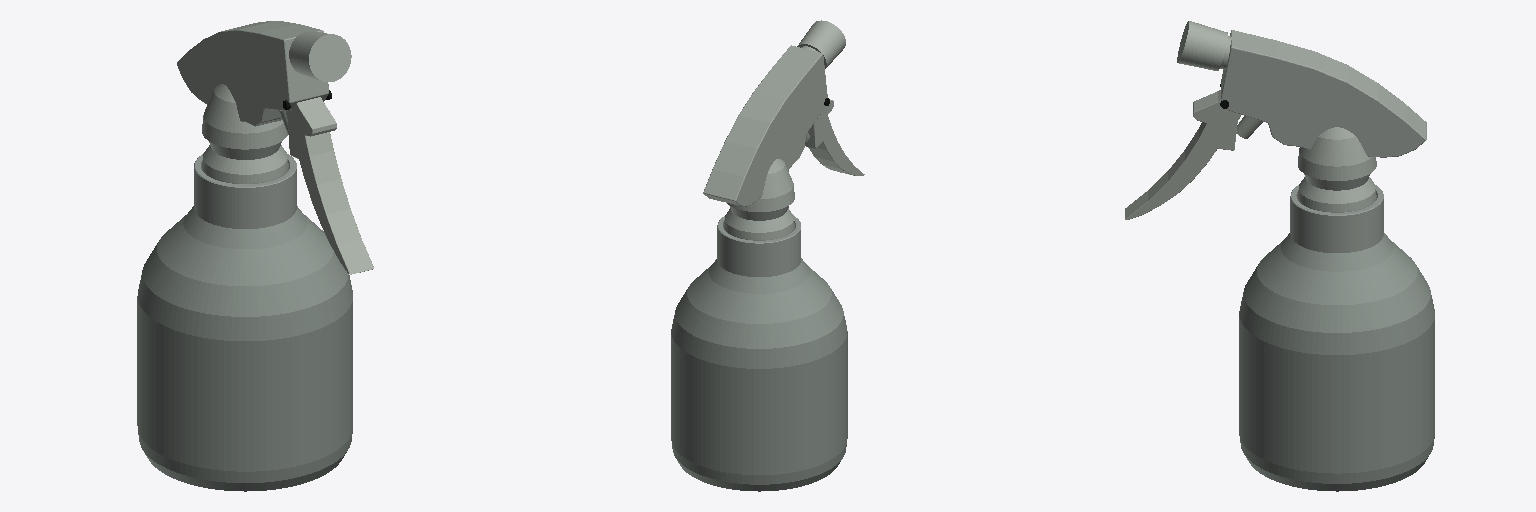
The robot description file, URDF, robot "object_101463":
<?xml version='1.0' encoding='utf-8'?>
<robot name="object_101463">
  <link name="fixed_root">
    <visual name="bottle">
      <origin xyz="0 0 0" rpy="0 0 0" />
      <geometry>
        <mesh filename="meshes/mesh_000.obj" scale="1 1 1" />
      </geometry>
      <material name="mesh_000_material">
        <color rgba="0.5699999928474426 0.6050000190734863 0.5799999833106995 1.0" />
      </material>
    </visual>
  </link>
  <link name="link_closure_turn">
    <visual name="closure">
      <origin xyz="0 0 0" rpy="0 0 0" />
      <geometry>
        <mesh filename="meshes/mesh_001.obj" scale="1 1 1" />
      </geometry>
      <material name="mesh_001_material">
        <color rgba="0.6100000143051147 0.6399999856948853 0.6150000095367432 1.0" />
      </material>
    </visual>
  </link>
  <link name="link_head_swivel">
    <visual name="housing_pivot_left">
      <origin xyz="0 0 0" rpy="0 0 0" />
      <geometry>
        <mesh filename="meshes/mesh_002.obj" scale="1 1 1" />
      </geometry>
      <material name="mesh_002_material">
        <color rgba="0.10499999672174454 0.125 0.1120000034570694 1.0" />
      </material>
    </visual>
    <visual name="housing_pivot_right">
      <origin xyz="0 0 0" rpy="0 0 0" />
      <geometry>
        <mesh filename="meshes/mesh_003.obj" scale="1 1 1" />
      </geometry>
      <material name="mesh_003_material">
        <color rgba="0.10499999672174454 0.125 0.1120000034570694 1.0" />
      </material>
    </visual>
    <visual name="nozzle_mount">
      <origin xyz="0 0 0" rpy="0 0 0" />
      <geometry>
        <mesh filename="meshes/mesh_004.obj" scale="1 1 1" />
      </geometry>
      <material name="mesh_004_material">
        <color rgba="0.6499999761581421 0.6800000071525574 0.6499999761581421 1.0" />
      </material>
    </visual>
    <visual name="pump_housing">
      <origin xyz="0 0 0" rpy="0 0 0" />
      <geometry>
        <mesh filename="meshes/mesh_005.obj" scale="1 1 1" />
      </geometry>
      <material name="mesh_005_material">
        <color rgba="0.6499999761581421 0.6800000071525574 0.6499999761581421 1.0" />
      </material>
    </visual>
    <visual name="pump_lower_stem">
      <origin xyz="0 0 0" rpy="0 0 0" />
      <geometry>
        <mesh filename="meshes/mesh_006.obj" scale="1 1 1" />
      </geometry>
      <material name="mesh_006_material">
        <color rgba="0.6499999761581421 0.6800000071525574 0.6499999761581421 1.0" />
      </material>
    </visual>
    <visual name="pump_support_dome">
      <origin xyz="0 0 0" rpy="0 0 0" />
      <geometry>
        <mesh filename="meshes/mesh_007.obj" scale="1 1 1" />
      </geometry>
      <material name="mesh_007_material">
        <color rgba="0.6499999761581421 0.6800000071525574 0.6499999761581421 1.0" />
      </material>
    </visual>
    <visual name="nozzle">
      <origin xyz="0 0 0" rpy="0 0 0" />
      <geometry>
        <mesh filename="meshes/mesh_008.obj" scale="1 1 1" />
      </geometry>
      <material name="mesh_008_material">
        <color rgba="0.6600000262260437 0.6899999976158142 0.6600000262260437 1.0" />
      </material>
    </visual>
  </link>
  <link name="link_trigger_hinge">
    <visual name="trigger">
      <origin xyz="0 0 0" rpy="0 0 0" />
      <geometry>
        <mesh filename="meshes/mesh_009.obj" scale="1 1 1" />
      </geometry>
      <material name="mesh_009_material">
        <color rgba="0.6600000262260437 0.6899999976158142 0.6549999713897705 1.0" />
      </material>
    </visual>
  </link>
  <link name="link_plunger_slide">
    <visual name="plunger">
      <origin xyz="0 0 0" rpy="0 0 0" />
      <geometry>
        <mesh filename="meshes/mesh_010.obj" scale="1 1 1" />
      </geometry>
      <material name="mesh_010_material">
        <color rgba="0.6000000238418579 0.6299999952316284 0.6000000238418579 1.0" />
      </material>
    </visual>
  </link>
  <joint name="closure_turn" type="revolute">
    <parent link="fixed_root" />
    <child link="link_closure_turn" />
    <origin xyz="0 0.119999997318 0.554000020027" rpy="0 0 0" />
    <axis xyz="0 0 1" />
    <limit lower="-0.3490658503988659" upper="0.3490658503988659" effort="0" velocity="0" />
  </joint>
  <joint name="head_swivel" type="revolute">
    <parent link="link_closure_turn" />
    <child link="link_head_swivel" />
    <origin xyz="0 0 0.0434949994087" rpy="0 0 0" />
    <axis xyz="0 0 1" />
    <limit lower="-0.3490658503988659" upper="0.3490658503988659" effort="0" velocity="0" />
  </joint>
  <joint name="trigger_hinge" type="revolute">
    <parent link="link_head_swivel" />
    <child link="link_trigger_hinge" />
    <origin xyz="-2.16840434497e-19 -0.234999999404 0.244504988194" rpy="0 0 0" />
    <axis xyz="1 3.93407176878e-19 0" />
    <limit lower="0.0" upper="0.17453292519943295" effort="0" velocity="0" />
  </joint>
  <joint name="plunger_slide" type="prismatic">
    <parent link="link_head_swivel" />
    <child link="link_plunger_slide" />
    <origin xyz="0 -0.157999992371 0.210505008698" rpy="0 0 0" />
    <axis xyz="-1.1354260557e-18 0.615921974182 0.787807166576" />
    <limit lower="0.0" upper="0.007964728154396097" effort="0" velocity="0" />
  </joint>
</robot>

--- Facts derived from the render (not from the file) ---
The picture shows the robot from 3 angles, left to right: view 1: azimuth 30°, elevation 25°; view 2: azimuth 150°, elevation 25°; view 3: azimuth 270°, elevation 25°; orthographic projection.
Robot: object_101463 — 5 links, 4 joints (3 revolute, 1 prismatic); root link fixed_root; default pose: every joint at zero.
Links seen in each view (by area): view 1: fixed_root, link_head_swivel, link_trigger_hinge, link_closure_turn; view 2: fixed_root, link_head_swivel, link_closure_turn, link_trigger_hinge; view 3: fixed_root, link_head_swivel, link_trigger_hinge, link_closure_turn.
Link boxes in pixels (x1,y1,x2,y2): fixed_root: (137, 206, 352, 491); link_head_swivel: (177, 21, 351, 183); link_trigger_hinge: (286, 97, 373, 274); link_closure_turn: (194, 153, 296, 228); fixed_root: (671, 258, 847, 491); link_head_swivel: (703, 20, 845, 240); link_closure_turn: (717, 215, 800, 276); link_trigger_hinge: (805, 100, 864, 175); fixed_root: (1239, 233, 1434, 491); link_head_swivel: (1177, 21, 1426, 212); link_trigger_hinge: (1125, 90, 1240, 219); link_closure_turn: (1290, 185, 1383, 252).
Size in the robot's own frame: 0.41 by 0.6493 by 1.01 metres.
Meshes: 11 distinct files referenced, 11 mesh visuals loaded (11 OBJ).
